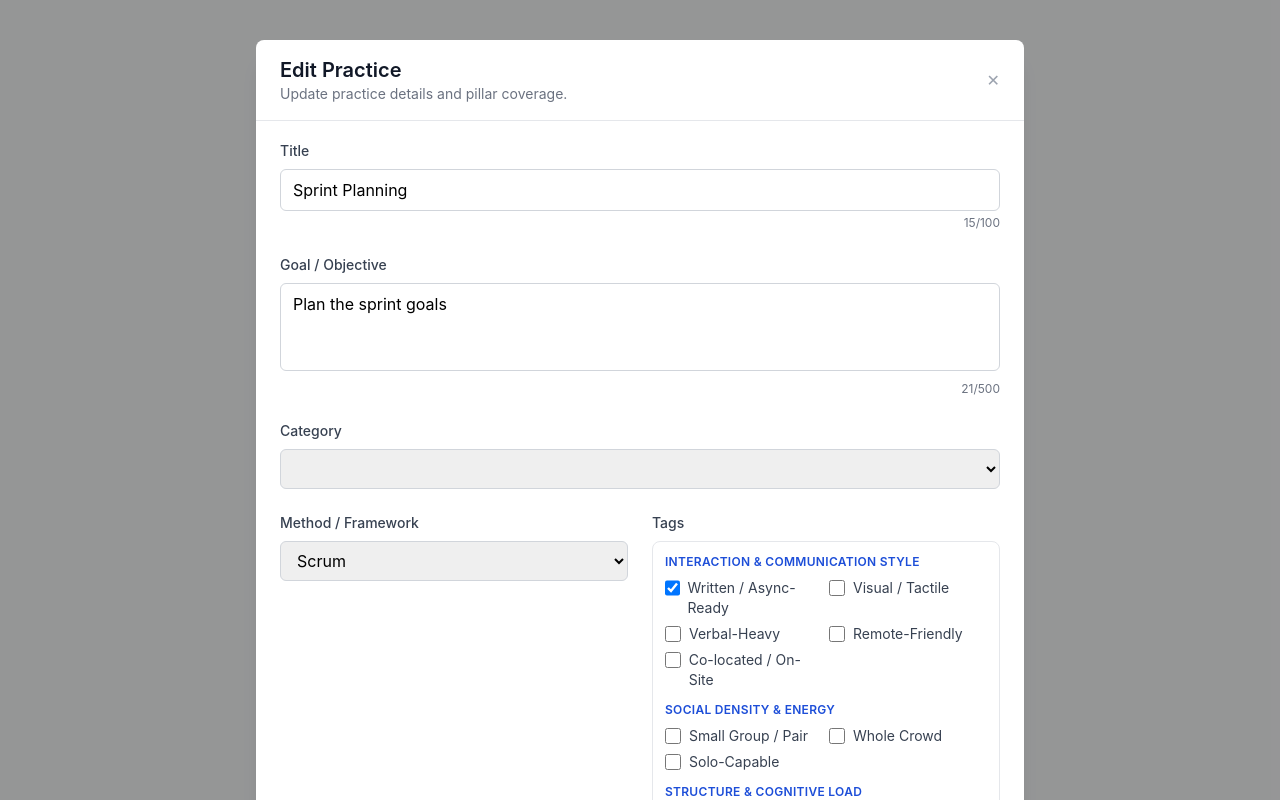
Test case: PracticeEditForm › blocks save when validation fails
This screenshot has width=1280, height=800.
Clear the field showing "Sprint Planning" at (640, 190), box [280,169,1000,211]
(page scrolled)
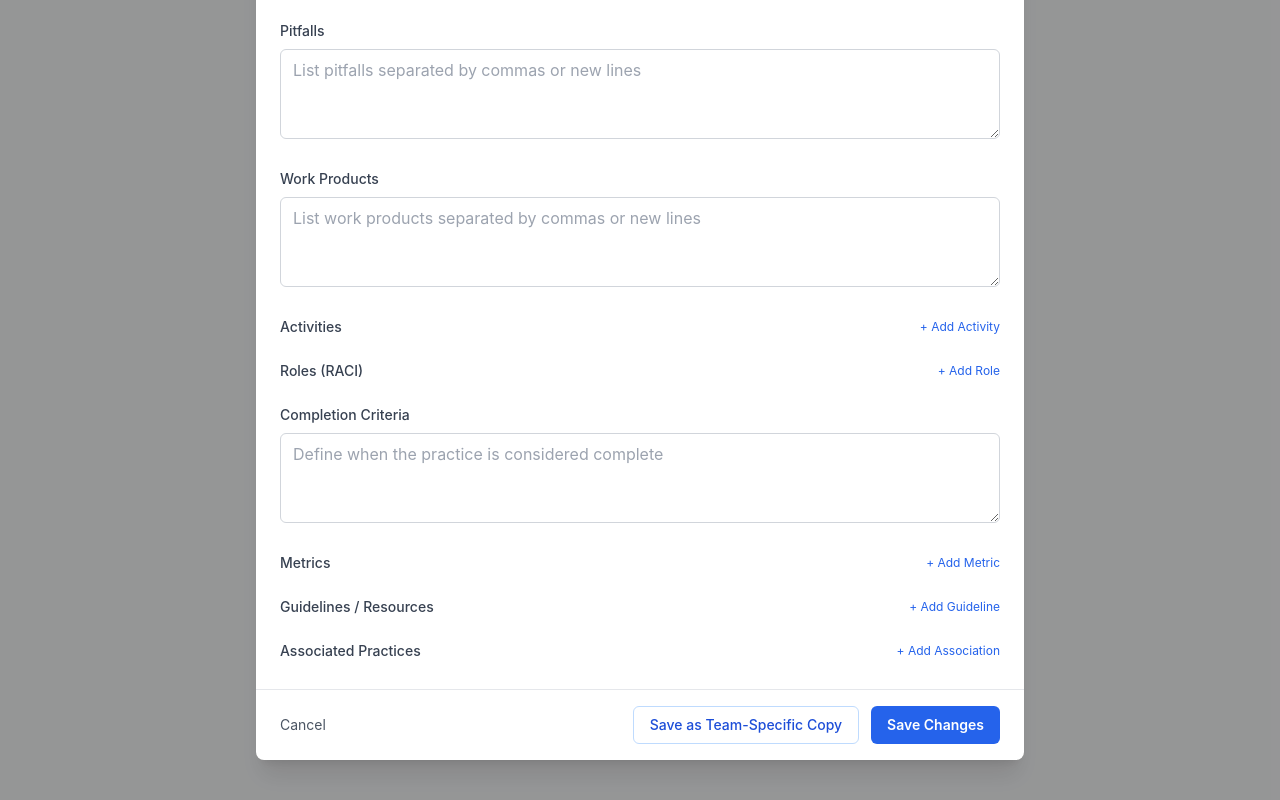
Click the button "Save Changes".
click(936, 725)  # box [871,706,1000,744]
(page scrolled)
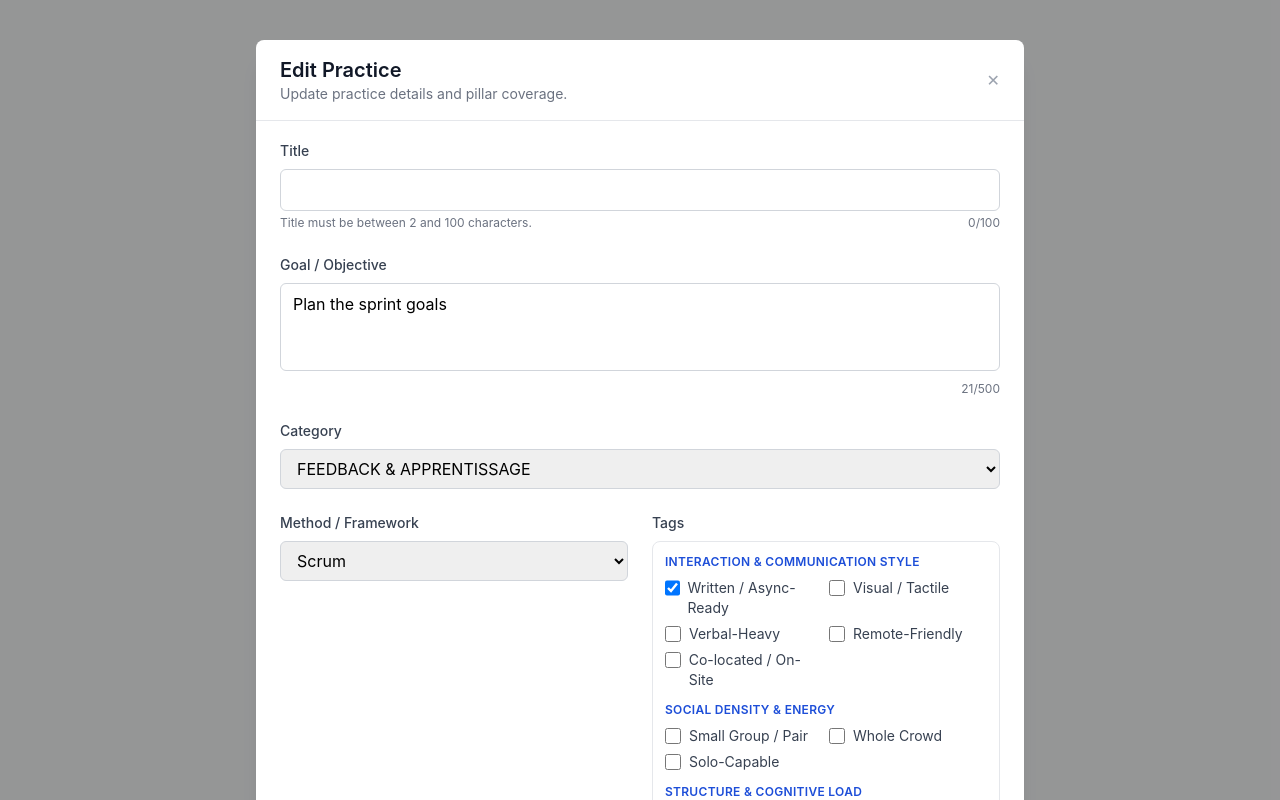
Check: the text "Title must be between 2 and 100 characters." is shown, box [280,215,532,231]
